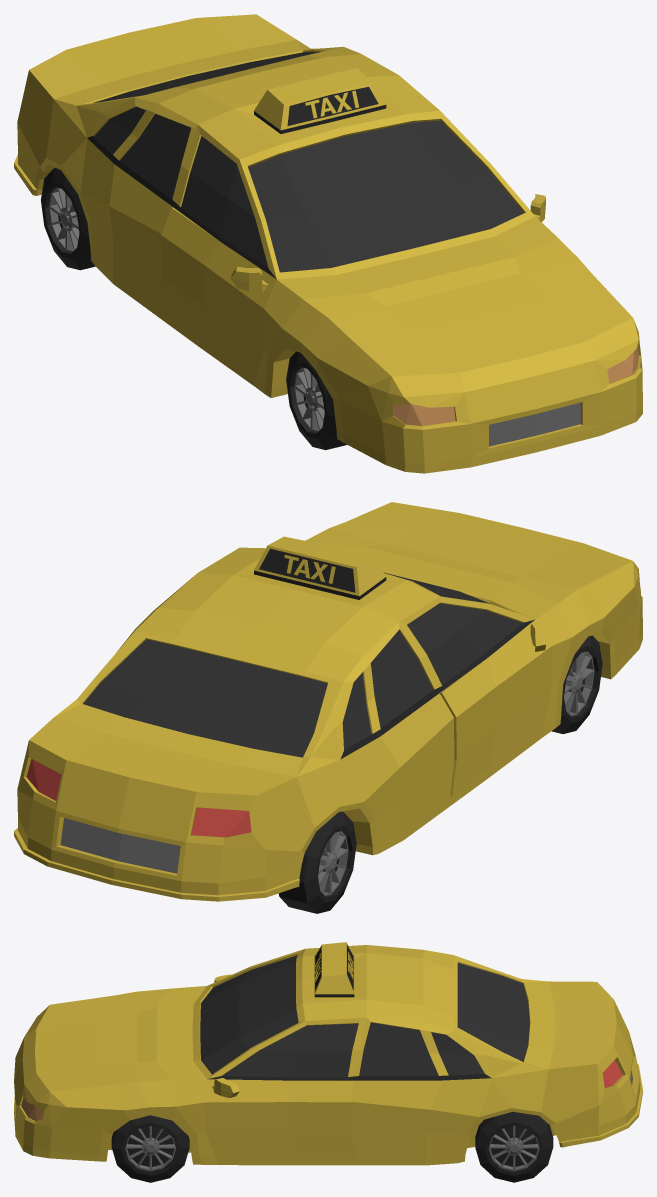
Rendered from poly-city-taxi.glb.
3 views of the same model, one above another, from view 1: azimuth 30°, elevation 25°; view 2: azimuth 150°, elevation 25°; view 3: azimuth 270°, elevation 25° (orthographic). The views are drawn at different scales.
Parts seen in each view (by area): view 1: Taxi_Cube.009; view 2: Taxi_Cube.009; view 3: Taxi_Cube.009.
Part boxes in pixels (x1=…): Taxi_Cube.009: x1=14, y1=14, x2=642, y2=473; Taxi_Cube.009: x1=14, y1=502, x2=642, y2=913; Taxi_Cube.009: x1=14, y1=942, x2=642, y2=1182.
Bounding box in the file's own units: 1.81 × 1.31 × 4.22.
